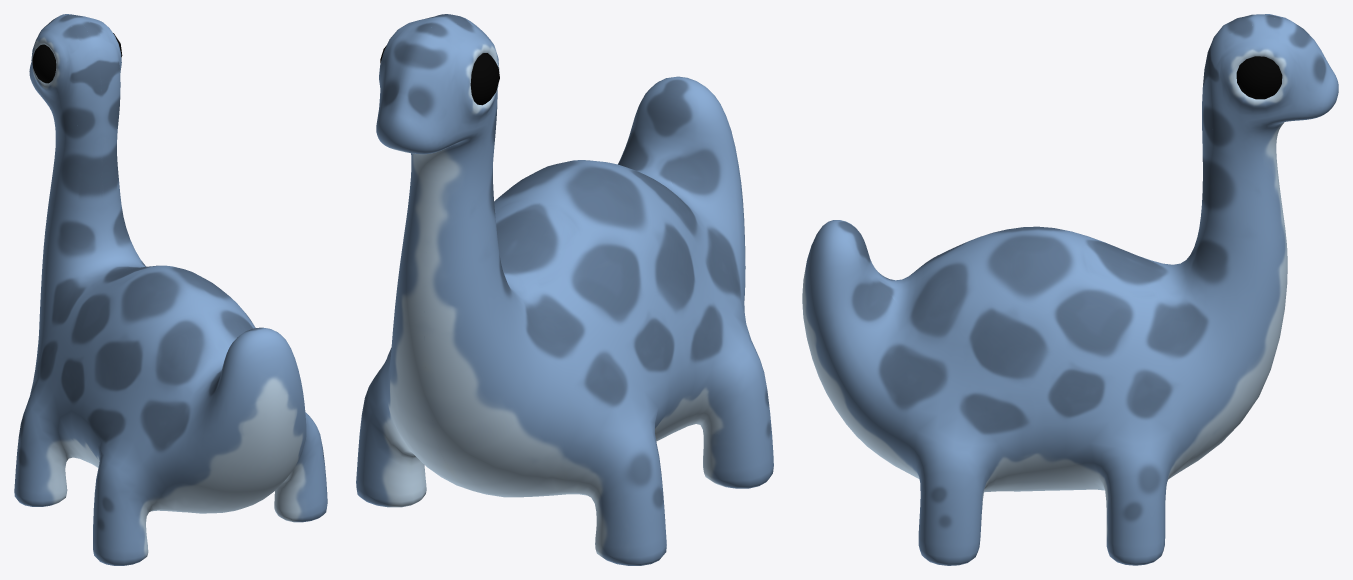
The model's file is dino3.fbx.
The picture shows the model from 3 angles, left to right: view 1: azimuth 30°, elevation 25°; view 2: azimuth 150°, elevation 25°; view 3: azimuth 270°, elevation 25°; orthographic projection. The views are drawn at different scales.
Parts seen in each view (by area): view 1: Dino; view 2: Dino; view 3: Dino.
Boxes of the visible parts, bbox=[...] form: Dino: bbox=[14, 14, 327, 565]; Dino: bbox=[356, 14, 773, 565]; Dino: bbox=[802, 14, 1338, 565].
Bounding box in the file's own units: 267 × 471 × 469.
